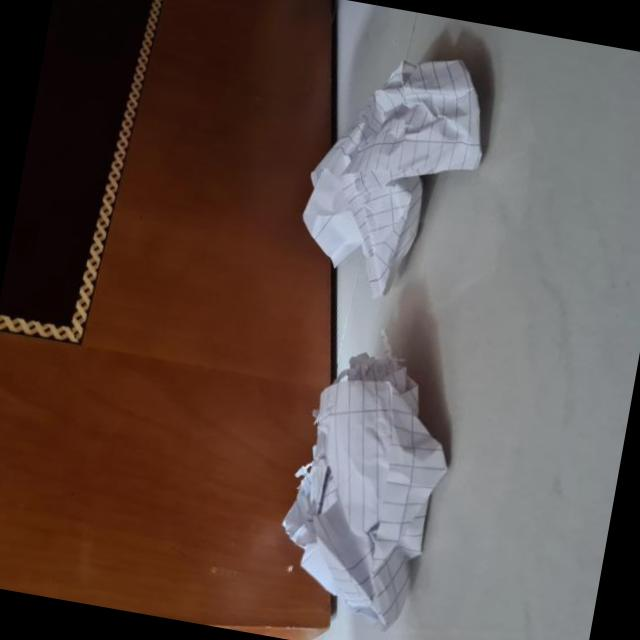cardboard paper: (282, 353, 446, 628), (302, 61, 480, 293)
